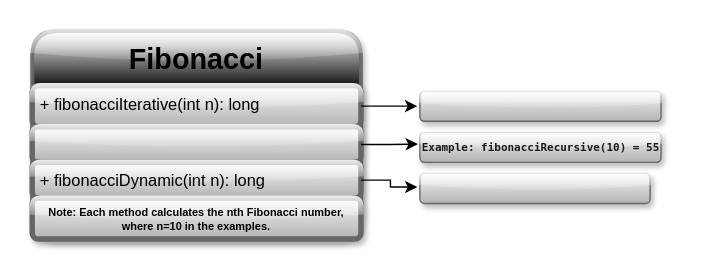
Some shapes in this 711 by 275 pixel diagram are drawn without their labels. The centre of each missing label's shape, as x and y in pixels:
+ fibonacciRecursive(int n): long: (x=197, y=146)
Example: fibonacciDynamic(10) = 55: (x=535, y=189)
Example: fibonacciIterative(10) = 55: (x=541, y=107)
